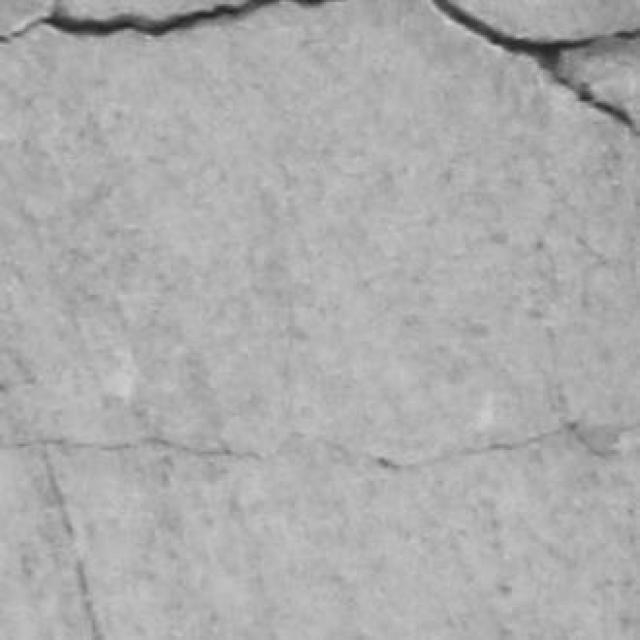crack: (0, 419, 639, 471), (433, 0, 639, 135), (0, 0, 283, 42), (43, 447, 104, 639), (0, 437, 263, 461)
